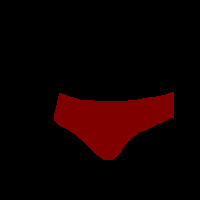mutande: (54, 91, 174, 160)
